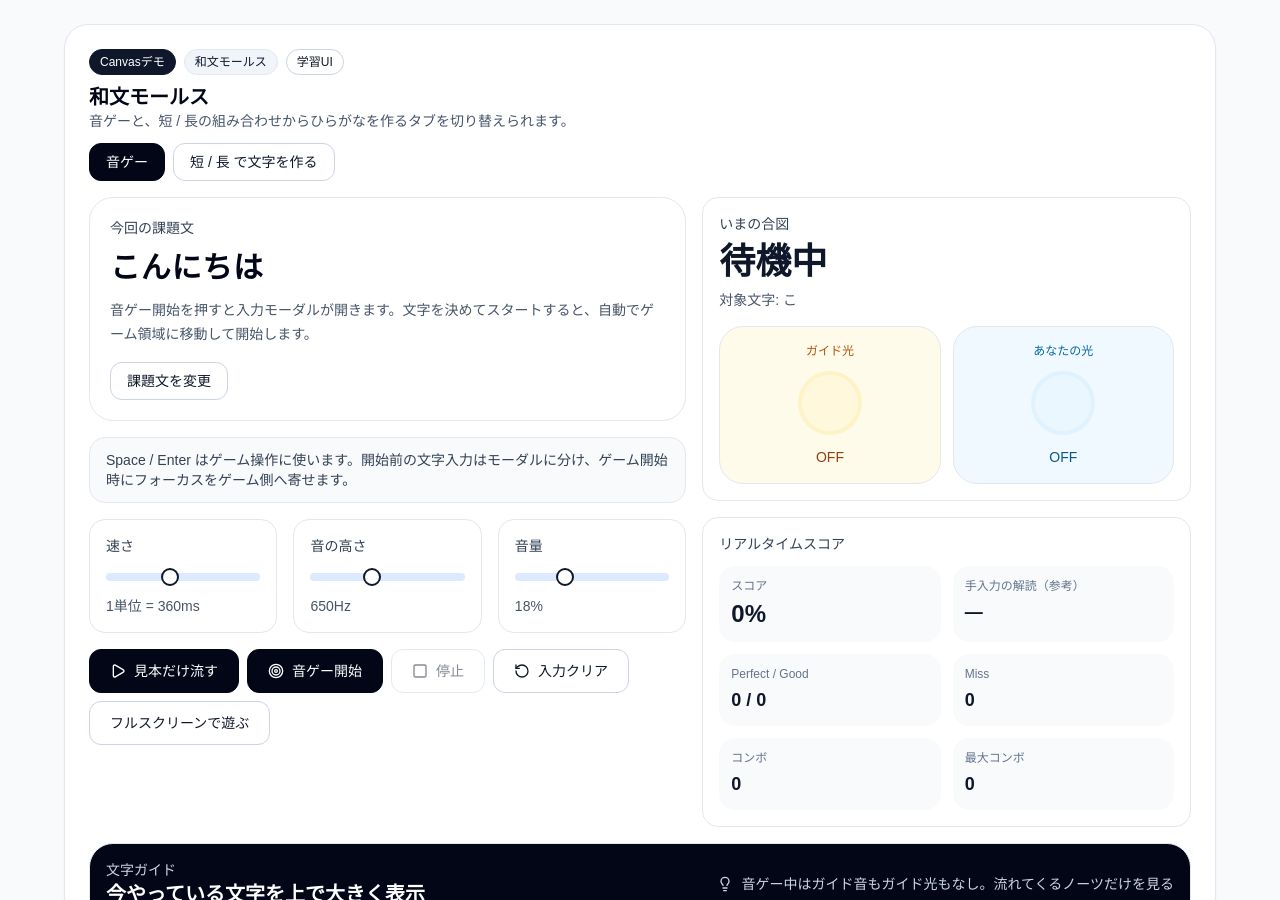
Test: keyboard play controls › locks body scroll and focuses the fullscreen dialog while fullscreen play is open
Step 1. Click the button "フルスクリーンで遊ぶ" → (180, 723), box [89,701,270,745]
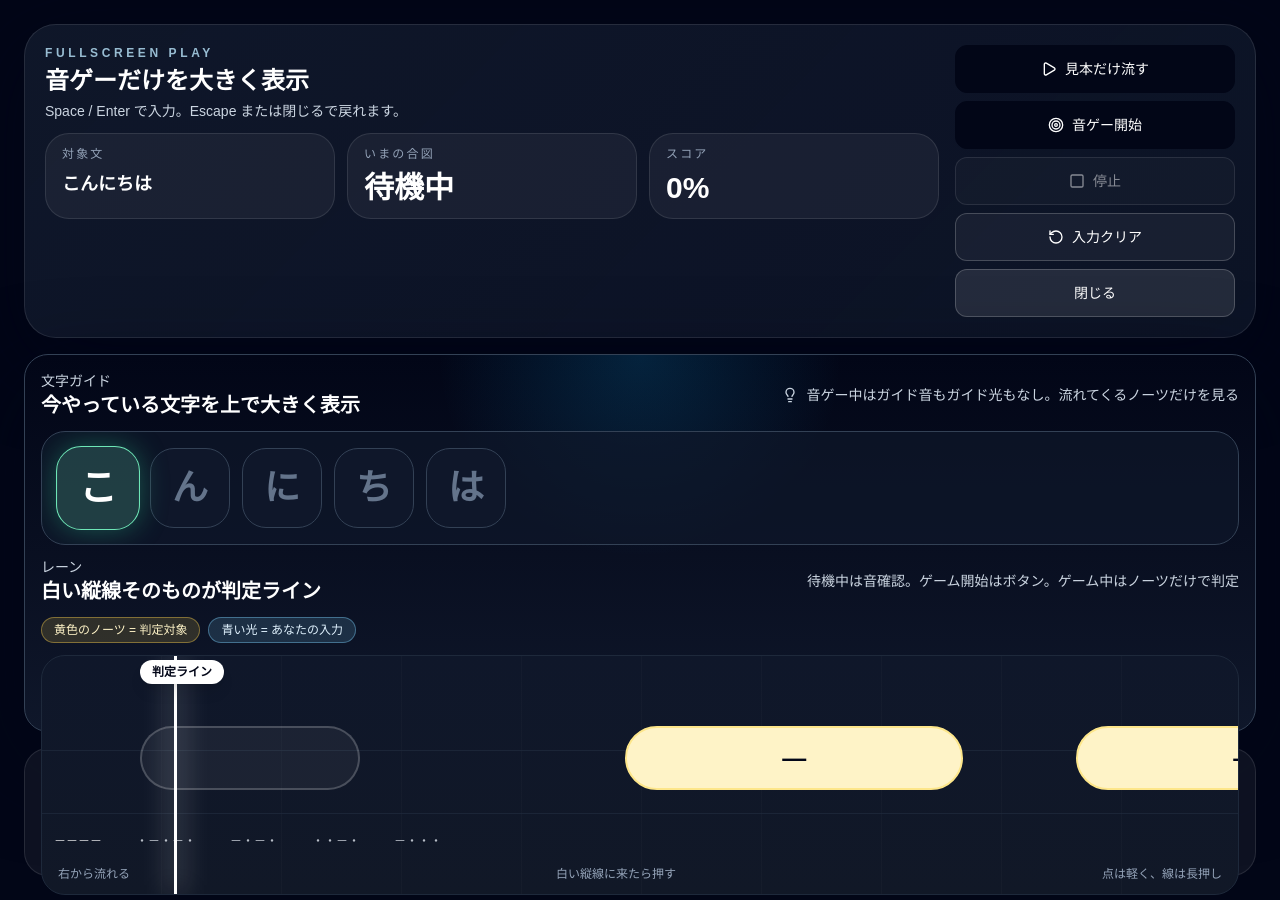
Now the dialog named "音ゲーフルスクリーン" is shown
